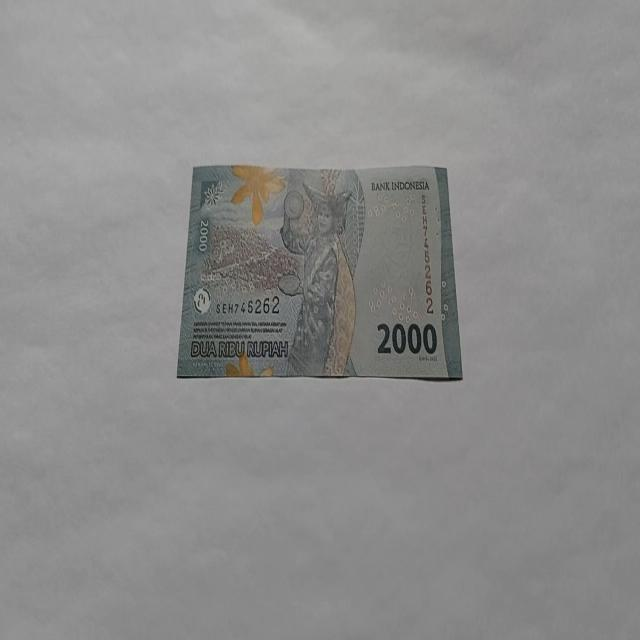dua ribu rupiah: (176, 162, 462, 382), (276, 178, 358, 377)
